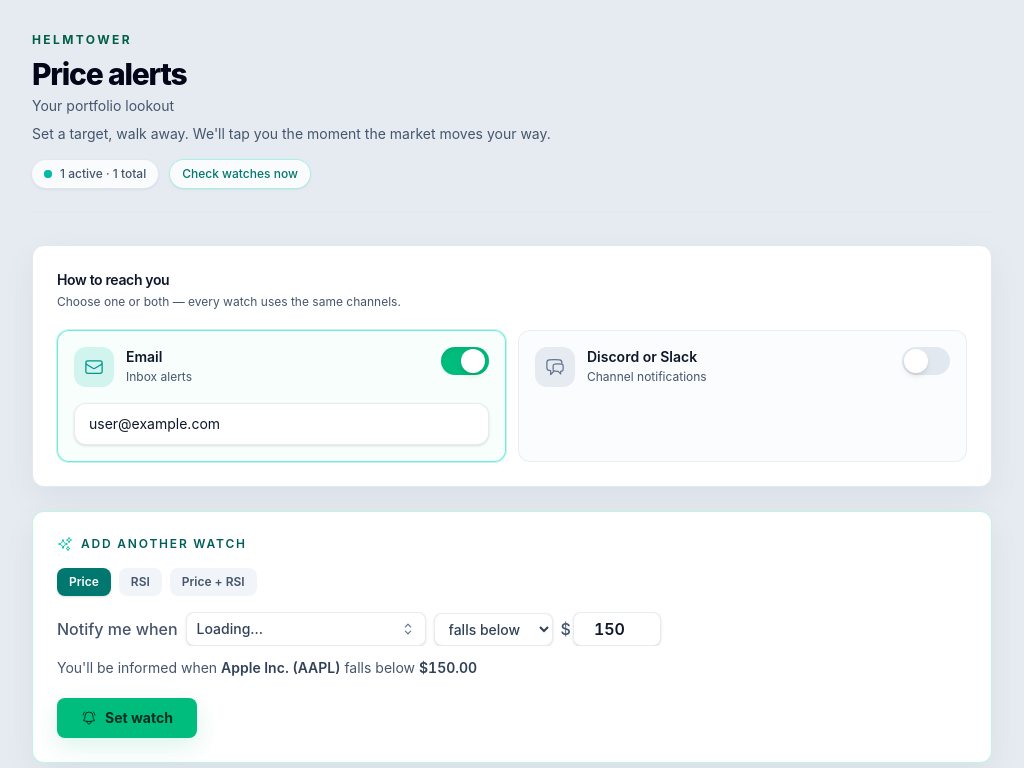
Test case: AlertsSettings RSI and compound composer persist › refuses a duplicate RSI composer watch without saving
The width and height of the screenshot is (1024, 768).
Check: the button "Check watches now" is shown, box left=170, top=160, right=310, bottom=188
Click the button "RSI" at (140,582), box left=119, top=568, right=162, bottom=596
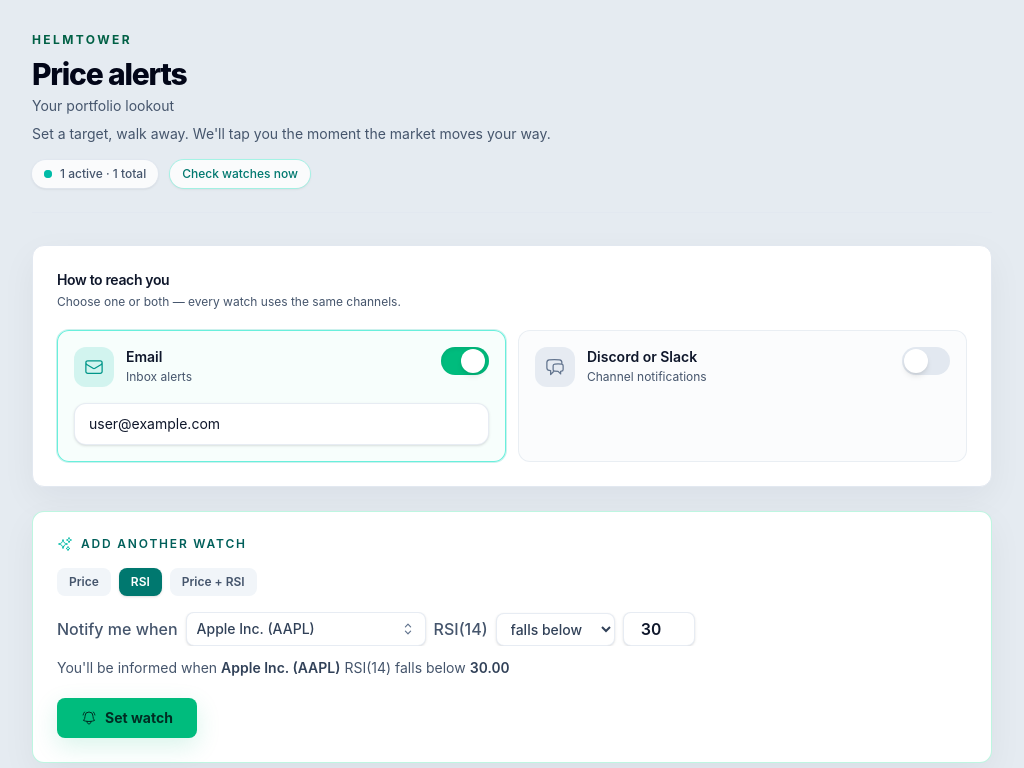
Click the button "Set watch" at (127,718), box left=57, top=698, right=197, bottom=738
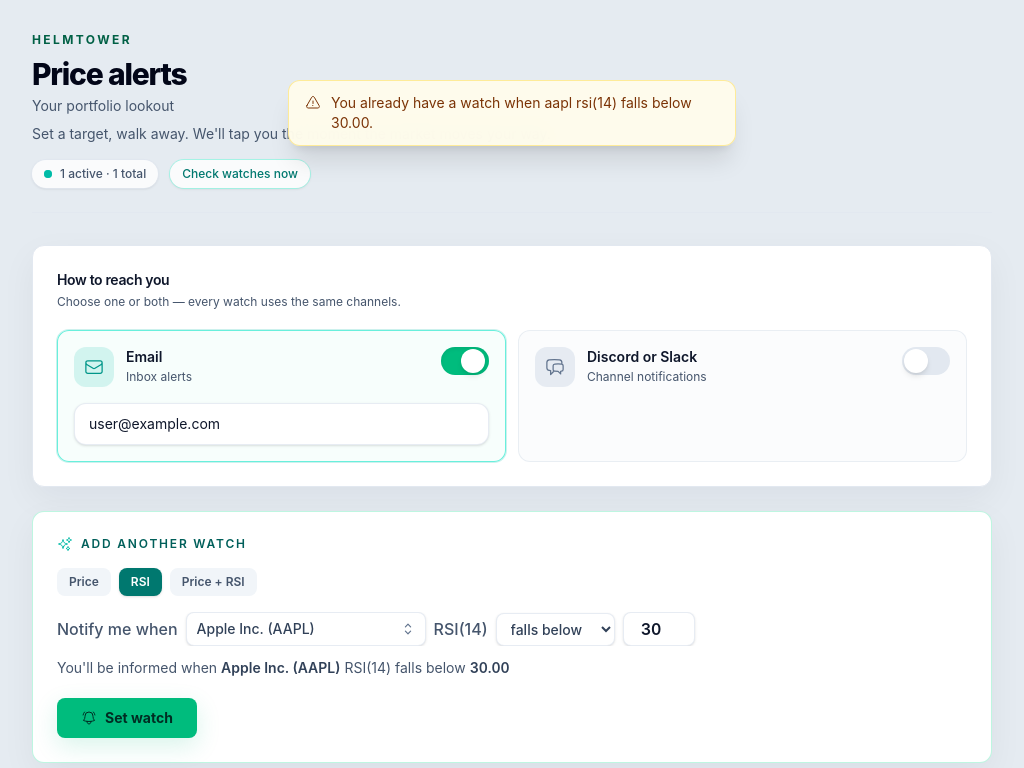
Check: the message reads "You already have a watch when aapl rsi(14) falls below 30.00.", box left=331, top=94, right=692, bottom=131
